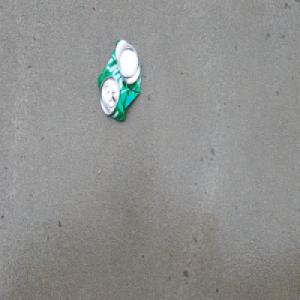SodaCan: (96, 36, 143, 124)
